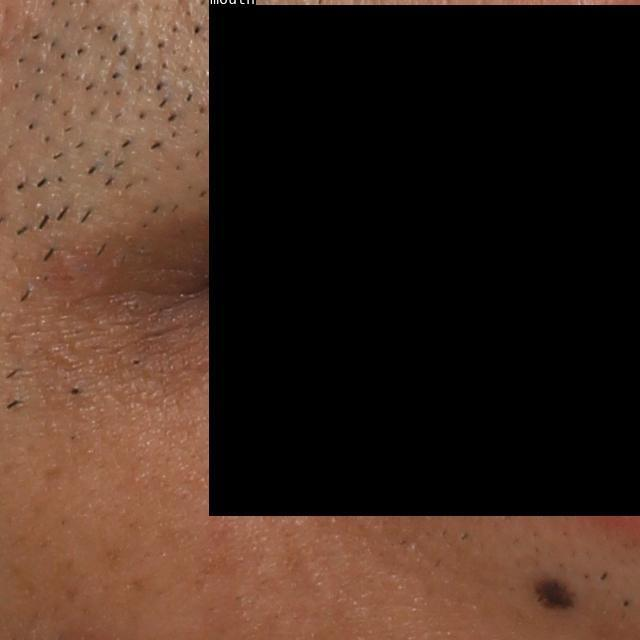nevus: (537, 579, 577, 612)
